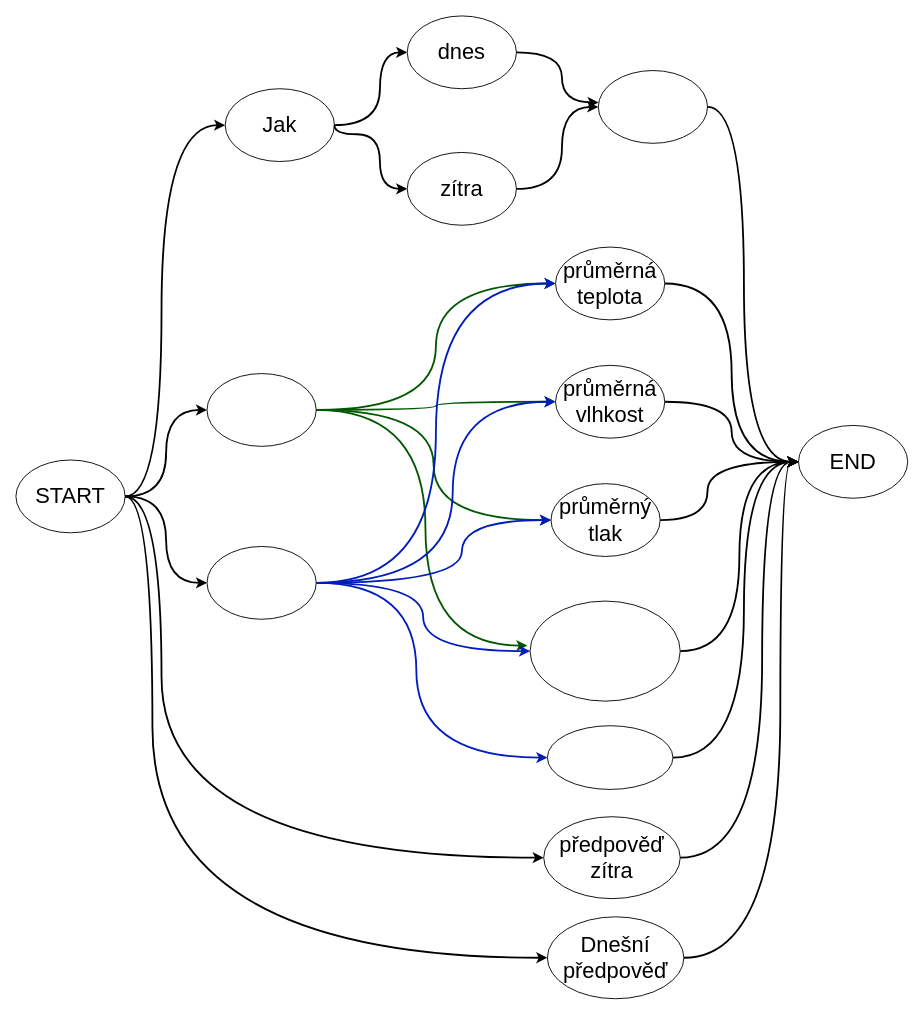
Image size: 924x1015. Some labels were removed from this diagram. The centre of each missing label's shape, as x and y in pixels:
bude: pixel 652 106
Dnešní: pixel 261 582
průměrná intenzita světelnosti: pixel 604 650
předpověď: pixel 609 757
Týdenní: pixel 261 409
